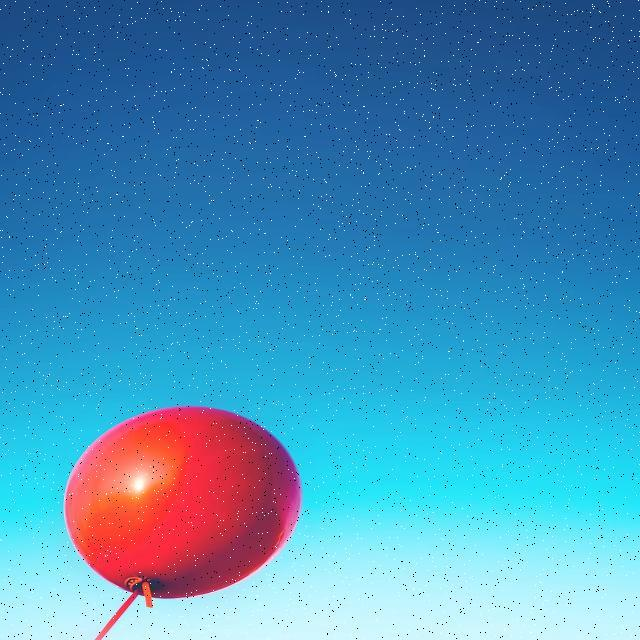red: (62, 404, 302, 636)
